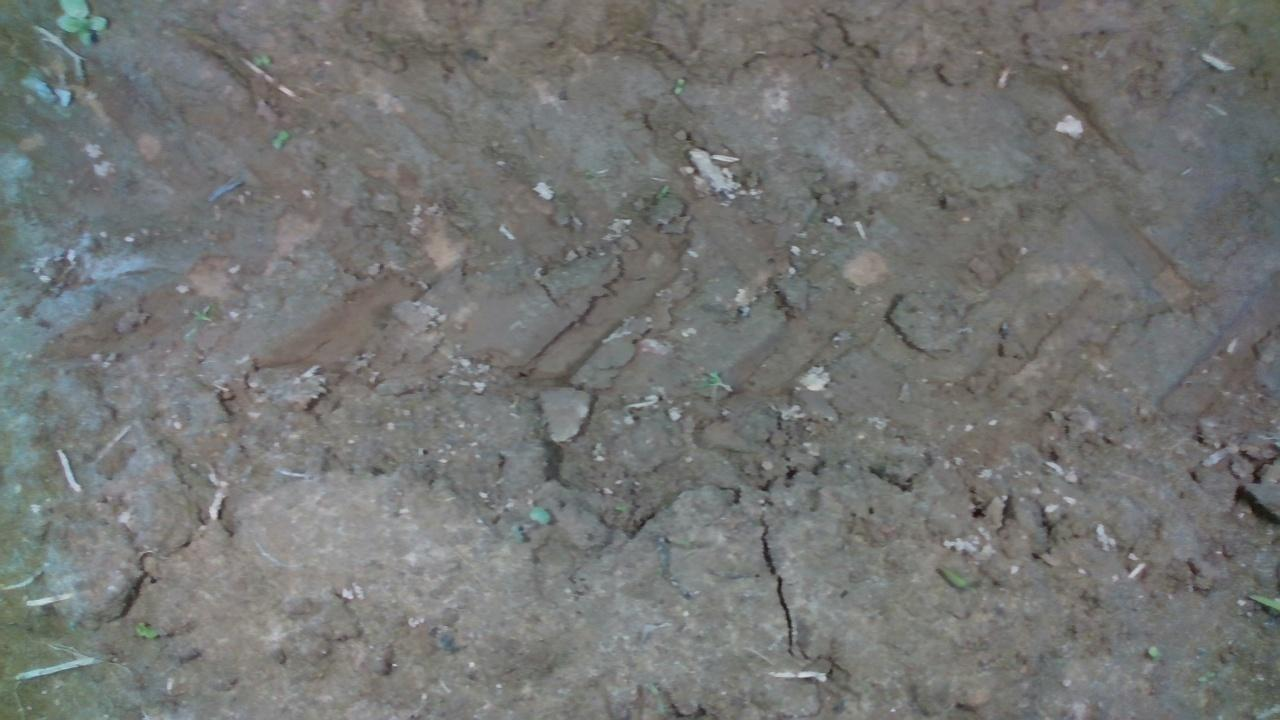weed: (269, 127, 289, 149), (672, 75, 684, 95), (250, 53, 270, 65)
